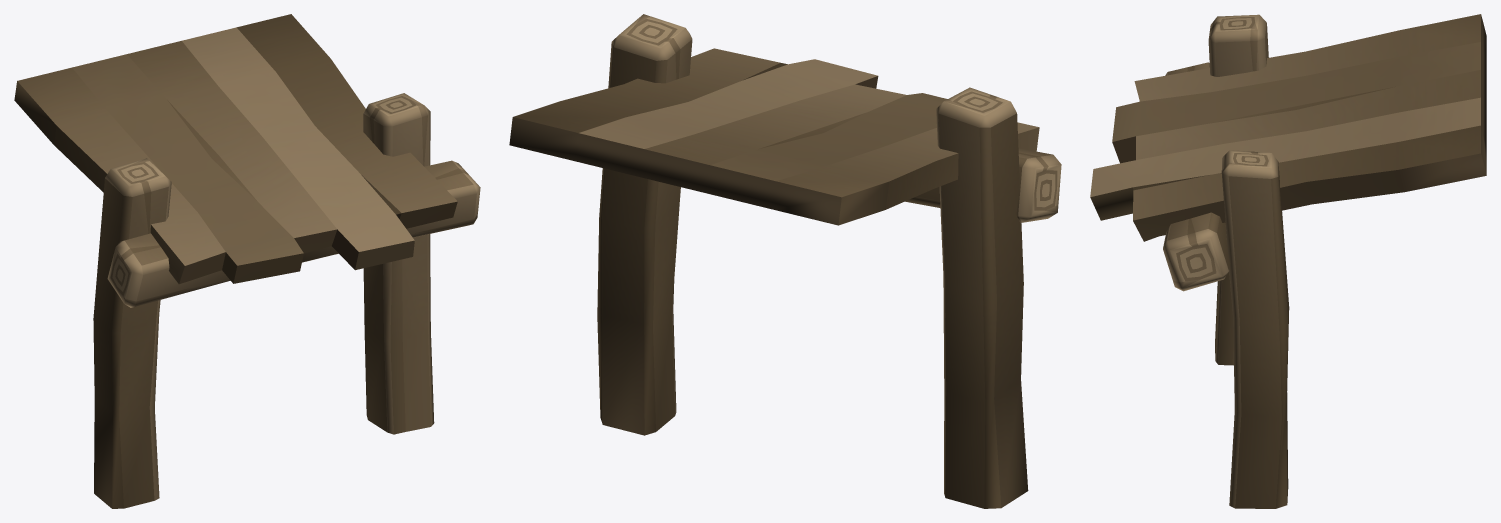
File: wooden_roof.fbx
3 views of the same model, side by side, from view 1: azimuth 30°, elevation 25°; view 2: azimuth 150°, elevation 25°; view 3: azimuth 270°, elevation 25° (orthographic). The views are drawn at different scales.
Visible parts, largest first — view 1: wooden_roof; view 2: wooden_roof; view 3: wooden_roof.
Boxes of the visible parts, x1,y1,x2,y2 form: wooden_roof: (14, 14, 480, 508); wooden_roof: (509, 14, 1061, 508); wooden_roof: (1090, 14, 1486, 508).
Bounding box in the file's own units: 394 × 351 × 368.
